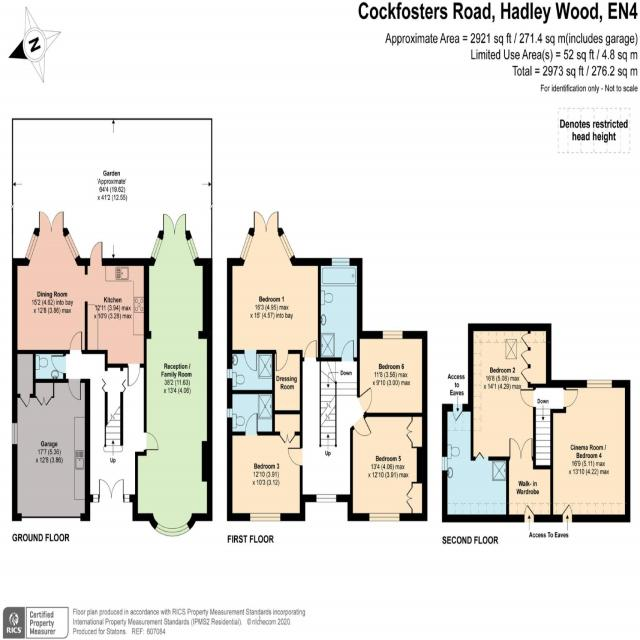DOOR: (352, 413, 372, 437), (357, 385, 373, 415), (89, 241, 103, 266), (69, 331, 83, 354), (563, 388, 579, 408), (520, 388, 536, 408), (245, 412, 258, 436), (127, 363, 140, 387), (341, 339, 355, 361), (275, 349, 289, 371), (287, 447, 303, 466), (68, 379, 81, 401), (144, 432, 159, 451), (244, 350, 257, 371), (304, 340, 317, 361)
DOUBLE DOOR: (36, 210, 66, 239), (161, 209, 188, 237), (507, 434, 534, 462), (252, 209, 280, 235)
ROOM: (132, 213, 213, 537), (11, 211, 149, 387), (227, 210, 321, 372), (467, 323, 552, 461), (550, 379, 631, 523), (347, 412, 428, 521), (227, 410, 305, 521), (357, 331, 428, 417)
WINDOW: (154, 522, 191, 537), (279, 231, 295, 261), (64, 231, 80, 261), (239, 232, 254, 262), (25, 232, 39, 263), (150, 235, 163, 261), (186, 236, 199, 262), (249, 512, 281, 522), (369, 512, 400, 522), (586, 379, 613, 388), (331, 257, 350, 267), (316, 494, 337, 503), (382, 330, 403, 339), (11, 422, 18, 445), (442, 456, 448, 471), (227, 368, 233, 379), (227, 408, 233, 418), (93, 494, 99, 503), (124, 494, 130, 502)
